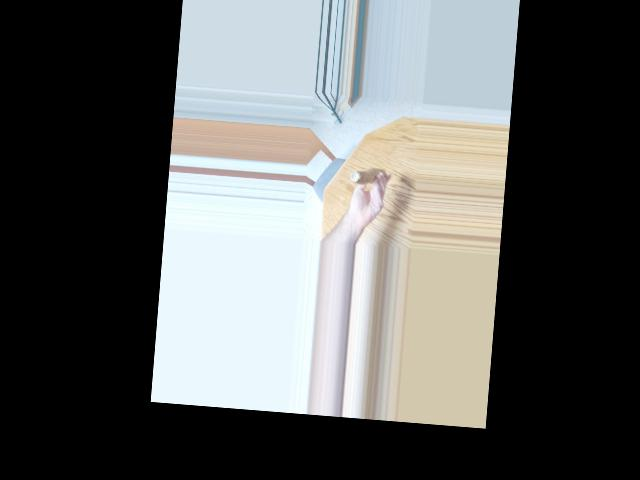sweet_potato: (344, 164, 388, 195)
